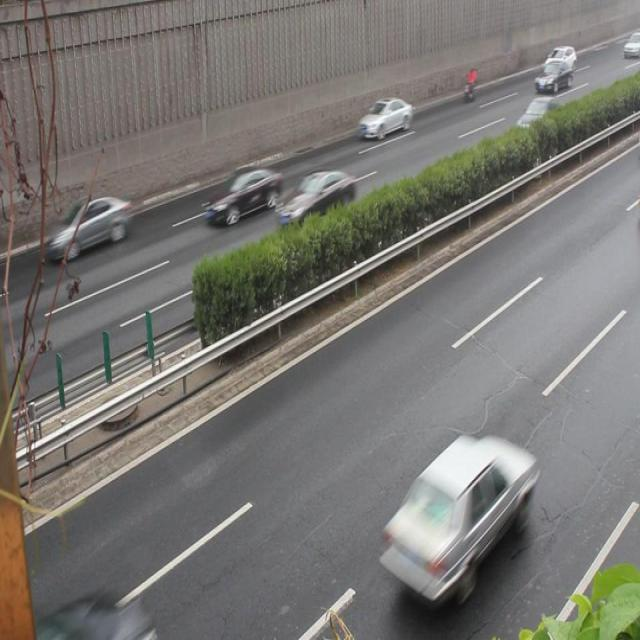car: (378, 432, 536, 601), (49, 196, 131, 260), (274, 170, 354, 228), (204, 165, 281, 224), (513, 97, 570, 148), (358, 96, 412, 142), (532, 60, 571, 94)
